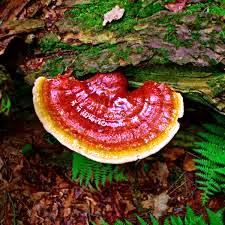Ganoderma - Fruit Body: (30, 73, 187, 166)
